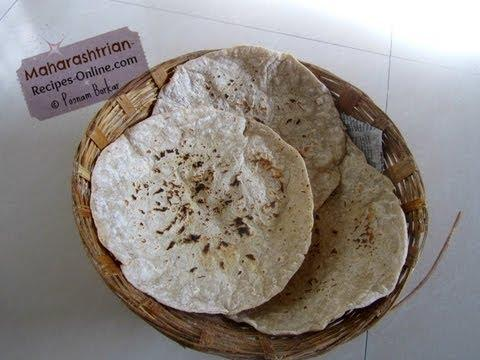bhakri: (86, 111, 319, 298), (240, 134, 414, 340), (156, 44, 344, 202)
